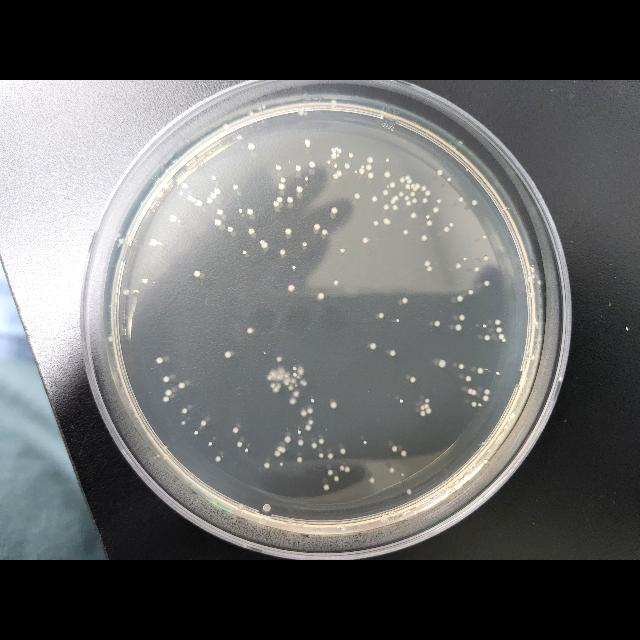colony: (269, 369, 277, 381), (297, 365, 305, 375), (150, 238, 158, 246), (288, 284, 296, 292), (284, 436, 292, 444), (214, 220, 222, 227), (438, 359, 446, 366), (123, 288, 129, 296), (278, 184, 286, 190), (248, 144, 256, 150), (367, 156, 373, 164), (332, 206, 338, 214), (318, 292, 324, 300), (330, 402, 338, 408), (330, 100, 338, 106), (264, 504, 270, 512), (286, 518, 294, 524), (370, 342, 376, 350), (170, 215, 176, 222), (195, 200, 202, 206), (296, 185, 302, 192), (363, 238, 369, 245), (194, 271, 200, 277), (142, 278, 148, 284), (228, 227, 234, 233), (262, 242, 268, 248), (249, 228, 255, 234), (247, 209, 253, 215), (217, 209, 223, 215), (214, 188, 220, 194), (210, 193, 216, 199), (207, 198, 213, 204), (182, 183, 188, 189), (285, 228, 291, 234), (280, 249, 286, 255), (273, 201, 279, 207), (277, 196, 283, 202), (287, 197, 293, 203), (296, 165, 302, 171), (309, 162, 315, 168), (336, 171, 342, 177), (344, 163, 350, 169), (359, 168, 365, 174), (366, 165, 372, 171), (368, 173, 374, 179), (384, 171, 390, 177), (354, 193, 360, 199), (390, 182, 396, 188), (372, 196, 378, 202), (383, 190, 389, 196), (421, 186, 427, 192), (406, 200, 412, 206), (383, 204, 389, 210), (433, 207, 439, 213), (411, 212, 417, 218), (421, 235, 427, 241), (427, 220, 433, 226), (444, 227, 450, 233), (424, 260, 430, 266), (427, 266, 433, 272), (322, 229, 328, 235), (314, 224, 320, 230), (458, 197, 464, 203), (472, 200, 478, 206), (474, 266, 480, 272), (484, 280, 490, 286), (526, 276, 532, 282), (528, 292, 534, 298), (498, 334, 504, 340), (484, 335, 490, 341), (457, 296, 463, 302), (459, 315, 465, 321), (455, 325, 461, 331), (434, 320, 440, 326), (378, 312, 384, 318), (402, 298, 408, 304), (410, 377, 416, 383), (426, 408, 432, 414), (420, 410, 426, 416), (484, 389, 490, 395), (392, 446, 398, 452), (401, 450, 407, 456), (344, 467, 350, 473), (340, 448, 346, 454), (327, 453, 333, 459), (327, 470, 333, 476), (334, 476, 340, 482), (324, 484, 330, 490), (318, 438, 324, 444), (311, 443, 317, 449), (318, 452, 324, 458), (307, 408, 313, 414), (305, 425, 311, 431), (301, 410, 307, 416), (298, 440, 304, 446), (382, 516, 388, 522), (530, 355, 536, 361), (298, 110, 304, 116), (223, 124, 229, 130), (215, 456, 221, 462), (264, 463, 270, 469), (274, 451, 280, 457), (280, 447, 286, 453), (238, 503, 244, 509), (182, 408, 188, 414), (163, 396, 169, 402), (166, 389, 172, 395), (179, 382, 185, 388), (164, 376, 170, 382), (157, 357, 163, 363), (225, 352, 231, 358), (247, 328, 253, 334), (108, 336, 114, 342), (390, 350, 396, 356), (276, 356, 282, 362), (293, 391, 299, 397), (290, 398, 296, 404), (270, 383, 276, 389), (273, 387, 279, 393), (288, 385, 294, 391), (284, 371, 290, 377), (340, 526, 348, 530), (128, 235, 132, 241), (234, 184, 238, 190), (280, 178, 286, 182), (276, 166, 282, 170), (306, 140, 310, 146), (349, 152, 353, 158), (338, 148, 342, 154), (332, 154, 336, 160), (404, 176, 410, 180), (400, 177, 404, 183), (408, 178, 412, 184), (438, 170, 442, 176), (398, 192, 404, 196), (406, 184, 410, 190), (412, 187, 418, 191), (410, 192, 416, 196), (404, 196, 410, 200), (412, 198, 416, 204), (422, 198, 428, 202), (426, 190, 430, 196), (392, 206, 398, 210), (374, 220, 378, 226), (390, 200, 396, 204), (387, 220, 391, 226), (384, 218, 388, 224), (340, 249, 346, 253), (456, 264, 462, 268), (531, 272, 535, 278), (530, 267, 534, 273), (496, 328, 502, 332), (468, 290, 474, 294), (334, 280, 338, 286), (478, 368, 482, 374), (466, 376, 470, 382), (424, 404, 430, 408), (484, 395, 488, 401), (468, 388, 472, 394), (390, 467, 394, 473), (370, 477, 374, 483), (406, 490, 412, 494), (308, 420, 314, 424), (298, 457, 302, 463), (262, 104, 266, 110), (258, 106, 262, 112), (248, 112, 254, 116), (238, 134, 242, 140), (278, 446, 282, 452), (164, 454, 168, 460), (202, 420, 206, 426), (276, 384, 282, 388), (267, 376, 273, 380), (292, 378, 296, 384), (302, 382, 308, 386), (300, 380, 306, 384), (278, 370, 284, 374), (243, 251, 247, 255), (260, 240, 264, 244), (239, 209, 243, 213), (212, 176, 216, 180), (192, 198, 196, 202), (188, 196, 192, 200), (292, 266, 296, 270), (334, 174, 338, 178), (332, 148, 336, 152), (411, 184, 415, 188), (416, 184, 420, 188), (437, 199, 441, 203), (395, 196, 399, 200), (404, 230, 408, 234), (449, 223, 453, 227), (303, 242, 307, 246), (484, 256, 488, 260), (537, 280, 541, 284), (496, 320, 500, 324), (502, 338, 506, 342), (459, 364, 463, 368), (425, 398, 429, 402), (420, 406, 424, 410), (472, 390, 476, 394), (472, 402, 476, 406), (340, 466, 344, 470), (459, 141, 463, 145), (238, 442, 242, 446), (234, 428, 238, 432), (280, 462, 284, 466), (157, 454, 161, 458), (293, 373, 297, 377), (285, 381, 289, 385), (287, 378, 291, 382), (277, 375, 281, 379), (280, 373, 284, 377), (334, 165, 338, 168), (336, 154, 339, 158), (392, 197, 396, 200), (195, 431, 199, 434), (165, 446, 168, 449), (304, 178, 308, 180), (306, 145, 310, 147), (334, 148, 338, 150), (334, 152, 336, 156), (448, 178, 450, 182), (484, 324, 486, 328), (400, 399, 402, 403), (478, 404, 482, 406), (298, 430, 300, 434), (246, 448, 248, 452), (210, 442, 212, 446), (182, 422, 186, 424), (297, 376, 301, 378), (180, 192, 183, 194), (328, 160, 330, 163), (355, 170, 357, 173), (386, 186, 389, 188), (426, 216, 429, 218), (396, 320, 399, 322), (496, 372, 499, 374), (364, 441, 366, 444), (401, 474, 404, 476), (362, 166, 364, 168), (386, 160, 388, 162), (484, 236, 486, 238), (464, 258, 466, 260), (312, 400, 314, 402), (295, 384, 297, 386), (294, 368, 296, 370), (280, 378, 282, 380), (222, 457, 224, 458), (290, 162, 290, 162)
